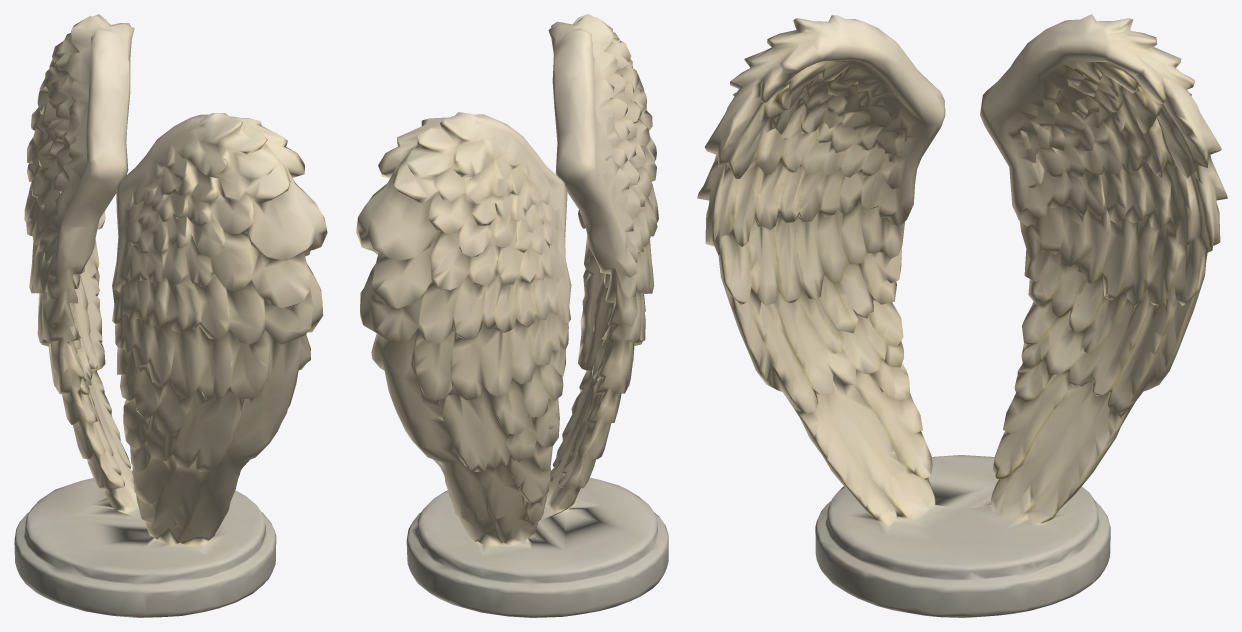
The model's file is angel-wings.glb.
3 renders of one model, left to right at view 1: azimuth 30°, elevation 25°; view 2: azimuth 150°, elevation 25°; view 3: azimuth 270°, elevation 25°, orthographic. The views are drawn at different scales.
Visible parts, largest first — view 1: tripo_node_5274dff5-b8d0-41fb-94ca-a19cd9157cde; view 2: tripo_node_5274dff5-b8d0-41fb-94ca-a19cd9157cde; view 3: tripo_node_5274dff5-b8d0-41fb-94ca-a19cd9157cde.
Boxes of the visible parts, <box> form: tripo_node_5274dff5-b8d0-41fb-94ca-a19cd9157cde: <box>14,14,327,617</box>; tripo_node_5274dff5-b8d0-41fb-94ca-a19cd9157cde: <box>356,14,668,617</box>; tripo_node_5274dff5-b8d0-41fb-94ca-a19cd9157cde: <box>697,14,1227,617</box>.
Bounding box in the file's own units: 0.4833 × 1 × 0.8723.
1 material, 1 textured.
